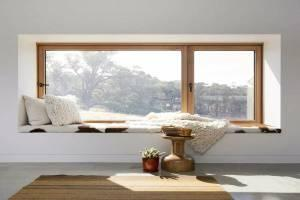window: (17, 35, 281, 132)
